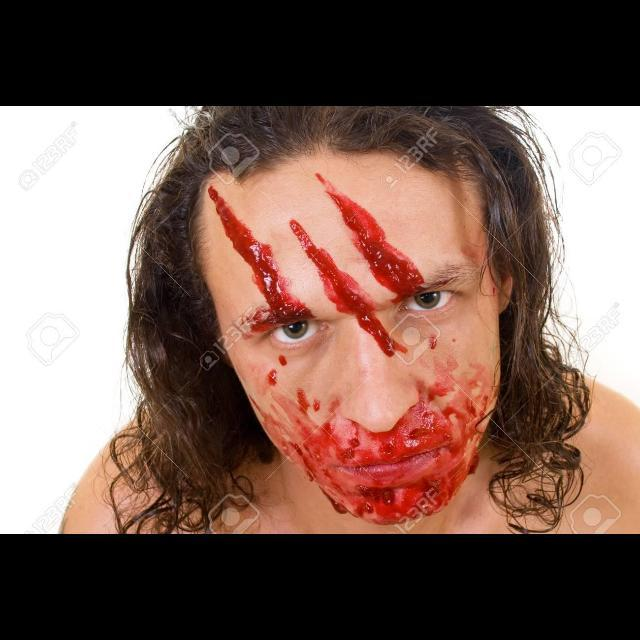blood: (251, 336, 499, 525), (208, 185, 312, 330), (290, 219, 395, 356), (331, 186, 424, 297), (297, 389, 310, 415), (267, 369, 278, 385), (278, 355, 287, 365), (314, 402, 320, 409)
